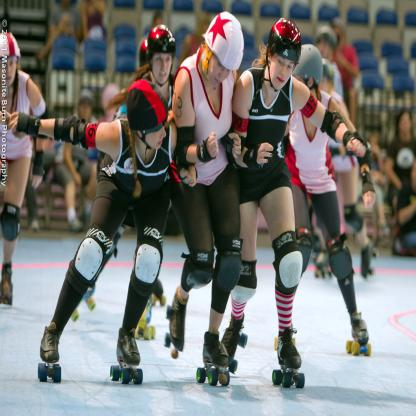Helmet: (265, 18, 305, 88), (201, 11, 245, 73), (132, 78, 170, 142), (148, 26, 176, 82), (292, 43, 324, 88), (0, 30, 22, 60), (139, 38, 148, 63)
